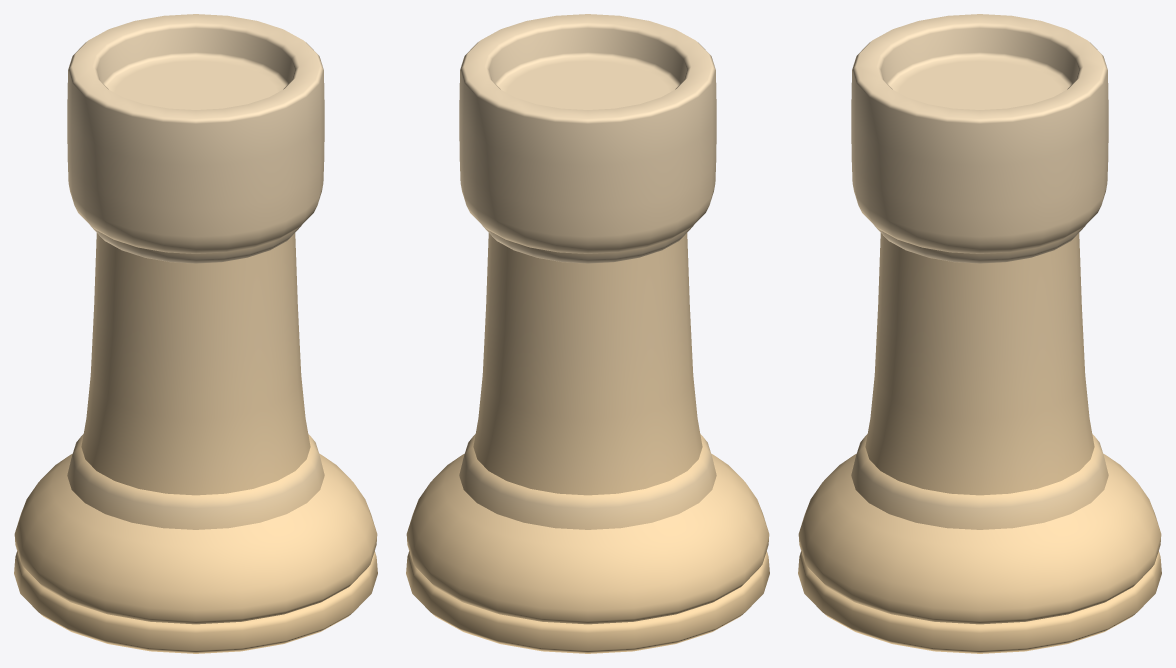
File: Chess_White_Rook_01.glb
The picture shows the model from 3 angles, left to right: view 1: azimuth 30°, elevation 25°; view 2: azimuth 150°, elevation 25°; view 3: azimuth 270°, elevation 25°; orthographic projection.
Parts seen in each view (by area): view 1: Chess_White_Rook_01; view 2: Chess_White_Rook_01; view 3: Chess_White_Rook_01.
Part boxes in pixels (x1,y1,x2,y2): Chess_White_Rook_01: (14,14,377,653); Chess_White_Rook_01: (406,14,769,653); Chess_White_Rook_01: (798,14,1161,653).
Bounding box in the file's own units: 0.0369 × 0.0581 × 0.0369.
2 materials, 2 textured.
